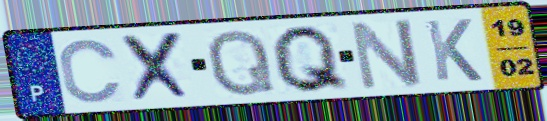C: (56, 36, 125, 105)
K: (422, 17, 486, 84)
N: (348, 17, 426, 94)
Q: (269, 22, 353, 96), (204, 26, 279, 99)
X: (118, 29, 197, 105)
